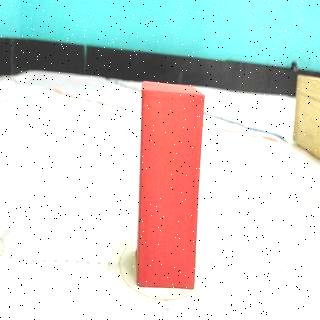redbox: (139, 85, 203, 288)
